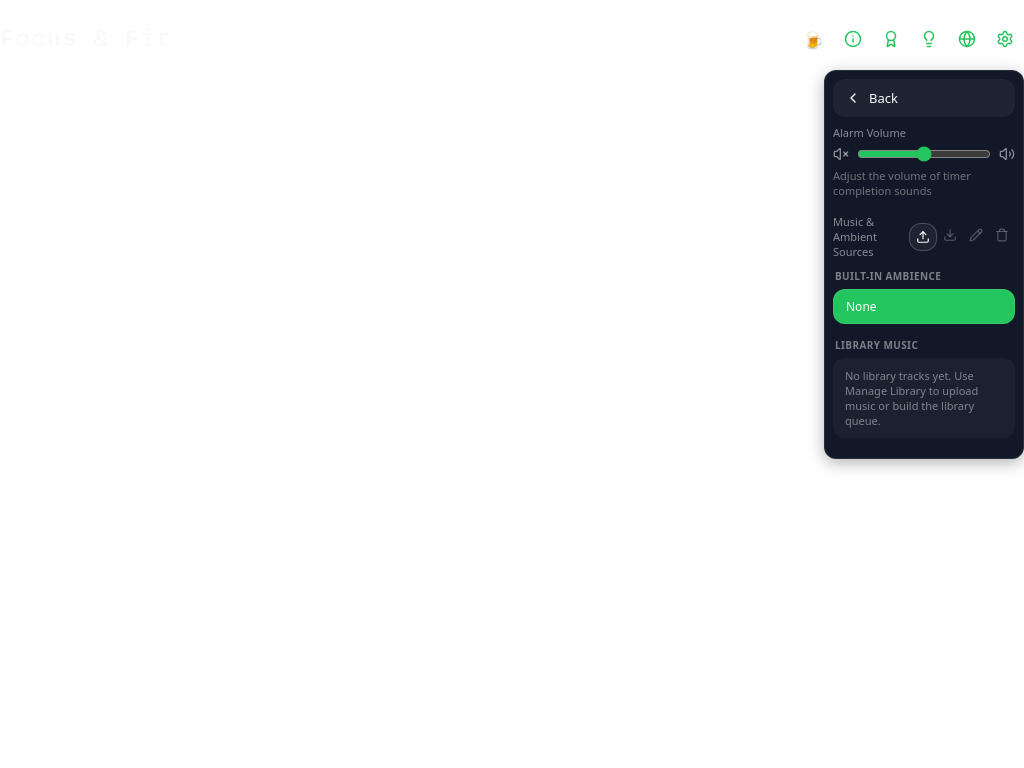
Test: opens the music modal from the sound panel upload icon
The image size is (1024, 768).
What coordinates should you click on to do the following:
click the button named "open music uploads"
I would click on:
 (923, 236)
Its box is left=909, top=222, right=937, bottom=250.
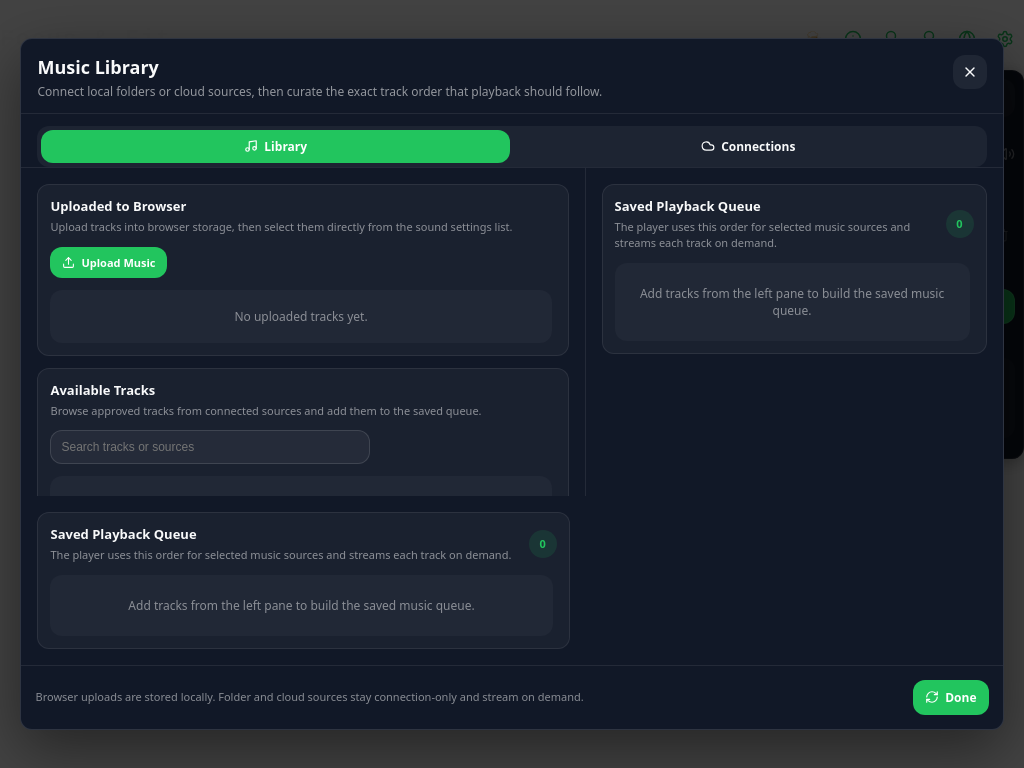
Expected: the text "Music Library" is shown, left=38, top=55, right=159, bottom=79
Expected: the button "Library" is shown, left=42, top=130, right=510, bottom=163
Expected: the button "Connections" is shown, left=514, top=130, right=982, bottom=163
